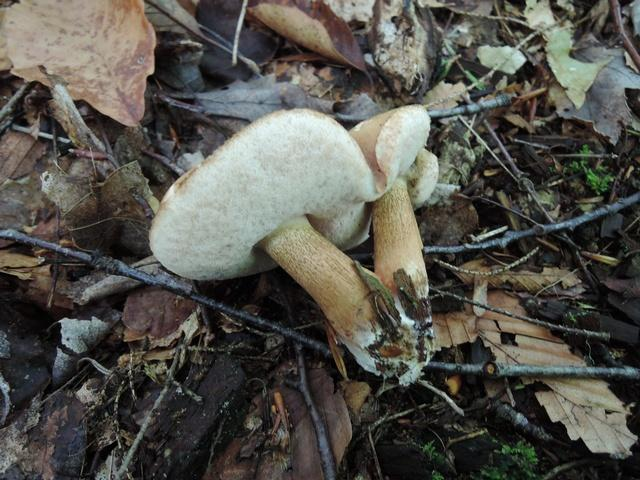poisonous_mushroom: (147, 103, 439, 385)
